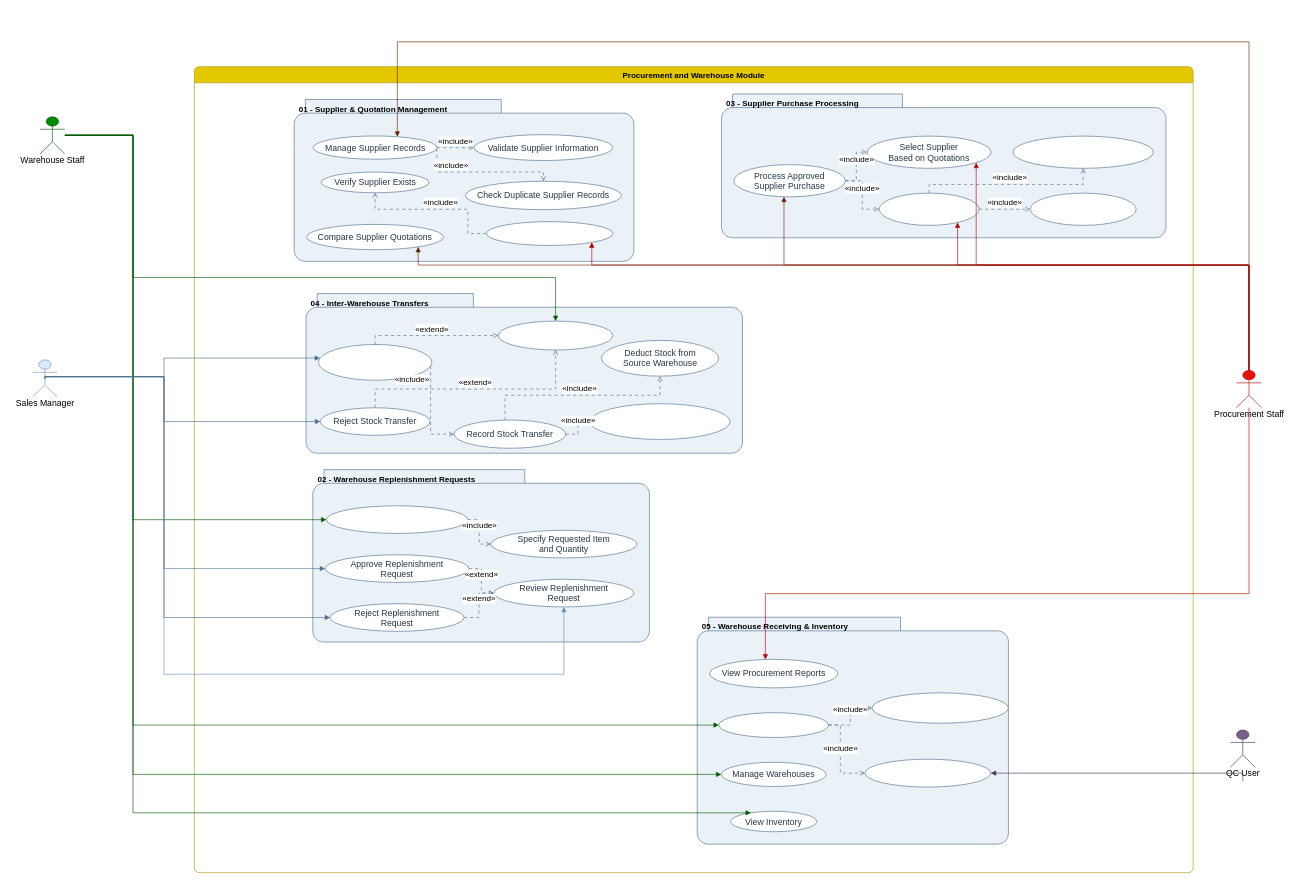
The diagram is 1301 pixels wide and 884 high, and some of its shapes have lost their labels. The shapes that lost their labels are listed below. From the top down, each one's centre as x and y in pixels, then its label:
At point 1083,151: "Specify Ordered Items, Quantities and Prices".
At point 929,209: "Record Supplier Purchase Order".
At point 1083,209: "Record Expected Delivery Date".
At point 549,233: "Record Supplier Quotation".
At point 555,335: "Request Stock Transfer".
At point 375,362: "Review / Approve Stock Transfer".
At point 659,421: "Add Stock to Destination Warehouse".
At point 397,519: "Submit Warehouse Replenishment Request".
At point 773,724: "Record Goods Receipt".
At point 939,707: "Update Warehouse Inventory".
At point 927,773: "Inspect Received Quantity".
